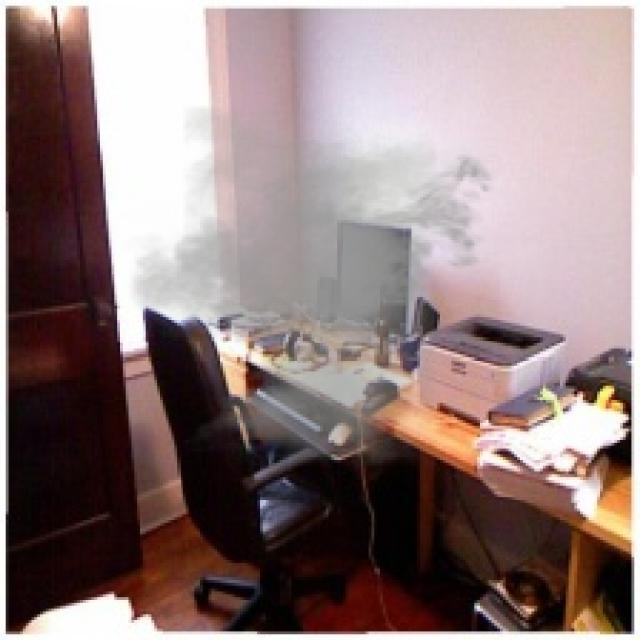Smoke: (114, 106, 506, 466)
